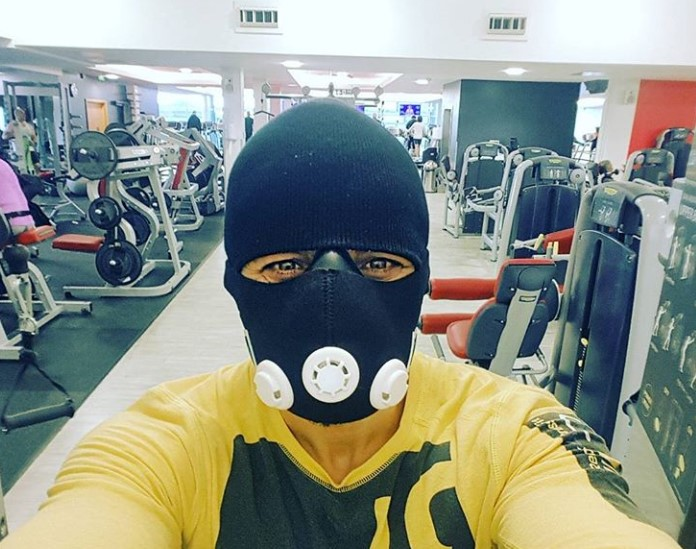face_with_mask: (220, 120, 433, 420)
